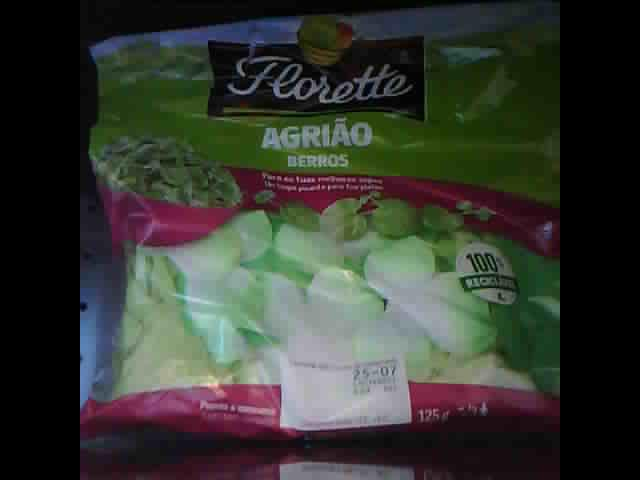florette: (82, 6, 559, 445)
